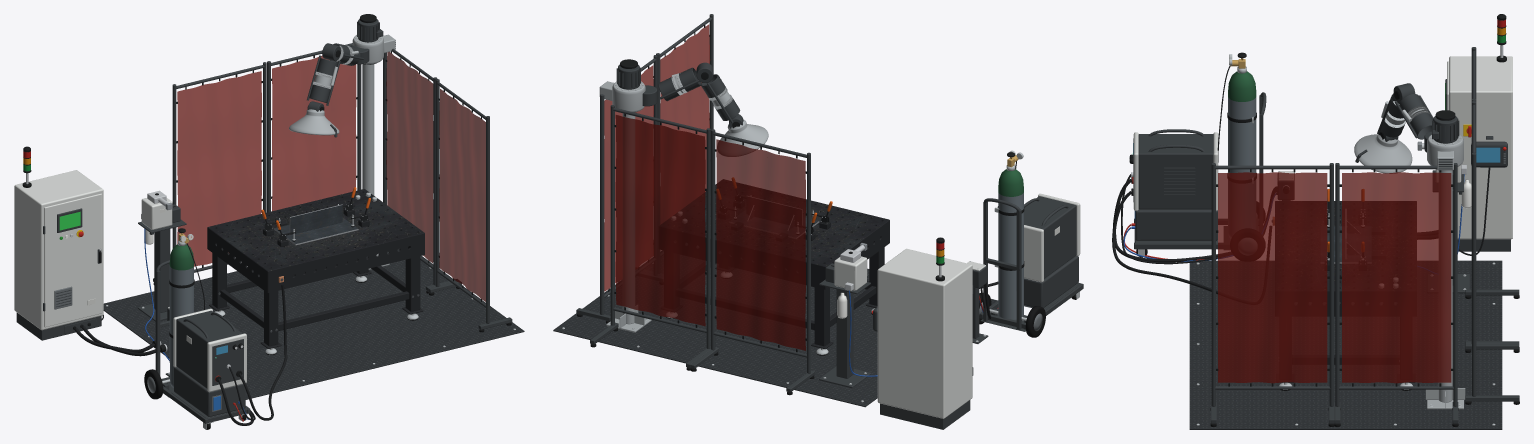
Rendered from cell_weld.glb.
3 views of the same model, side by side, from view 1: azimuth 30°, elevation 25°; view 2: azimuth 150°, elevation 25°; view 3: azimuth 270°, elevation 25° (orthographic). The views are drawn at different scales.
Parts seen in each view (by area): view 1: weld_static, weld_static_tex, wp_web, wp_base; view 2: weld_static, weld_static_tex, wp_web, wp_base; view 3: weld_static, weld_static_tex, wp_base.
Boxes of the visible parts, box(x1,y1,x2,y2) form: weld_static: box(14, 14, 515, 429); weld_static_tex: box(74, 189, 524, 425); wp_web: box(289, 204, 342, 234); wp_base: box(274, 217, 358, 245); weld_static: box(562, 14, 1083, 429); weld_static_tex: box(553, 161, 1068, 407); wp_web: box(746, 196, 802, 227); wp_base: box(729, 210, 819, 238); weld_static: box(1129, 14, 1519, 426); weld_static_tex: box(1112, 66, 1502, 429); wp_base: box(1320, 226, 1371, 263).
Bounding box in the file's own units: 3.55 × 2.24 × 2.87.
Materials: 39 (3 with a texture image).
